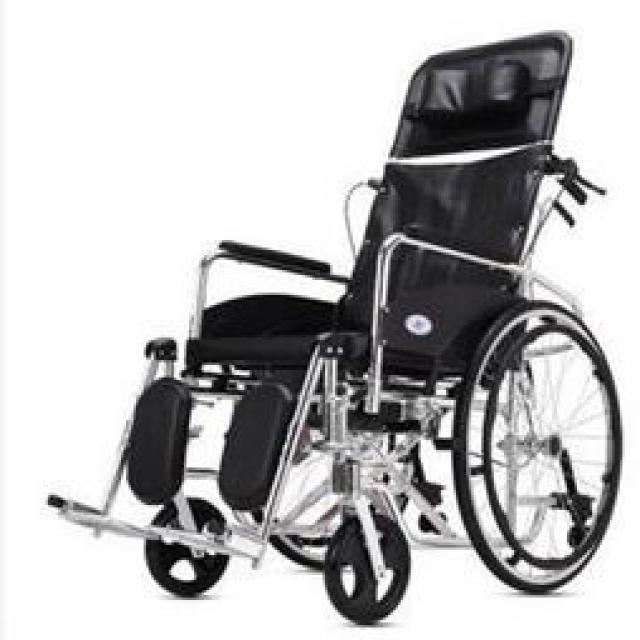wheelchair: (35, 18, 628, 628)
